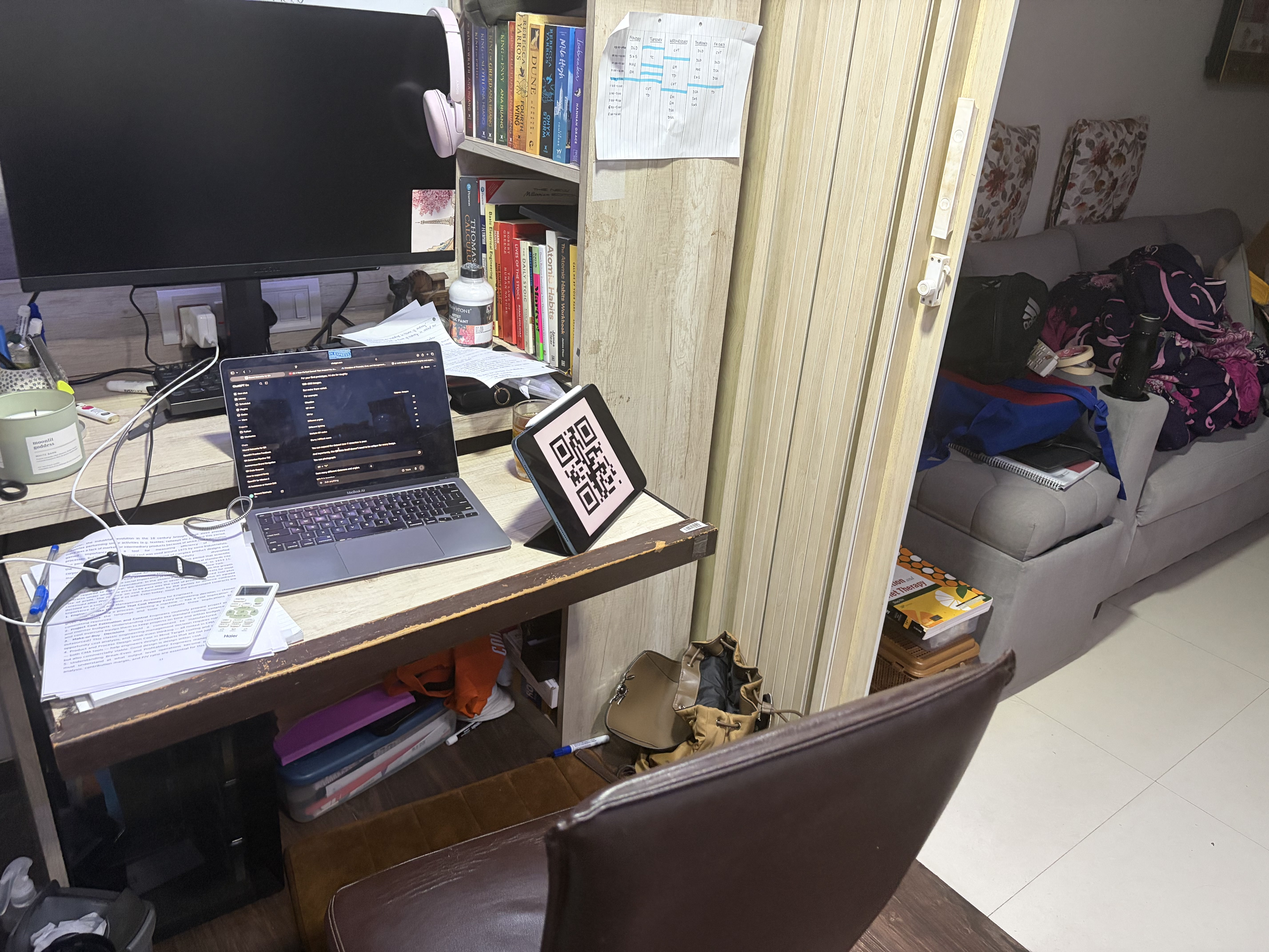QR: (524, 425, 646, 512)
